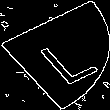L_NW: (18, 25, 92, 85)
